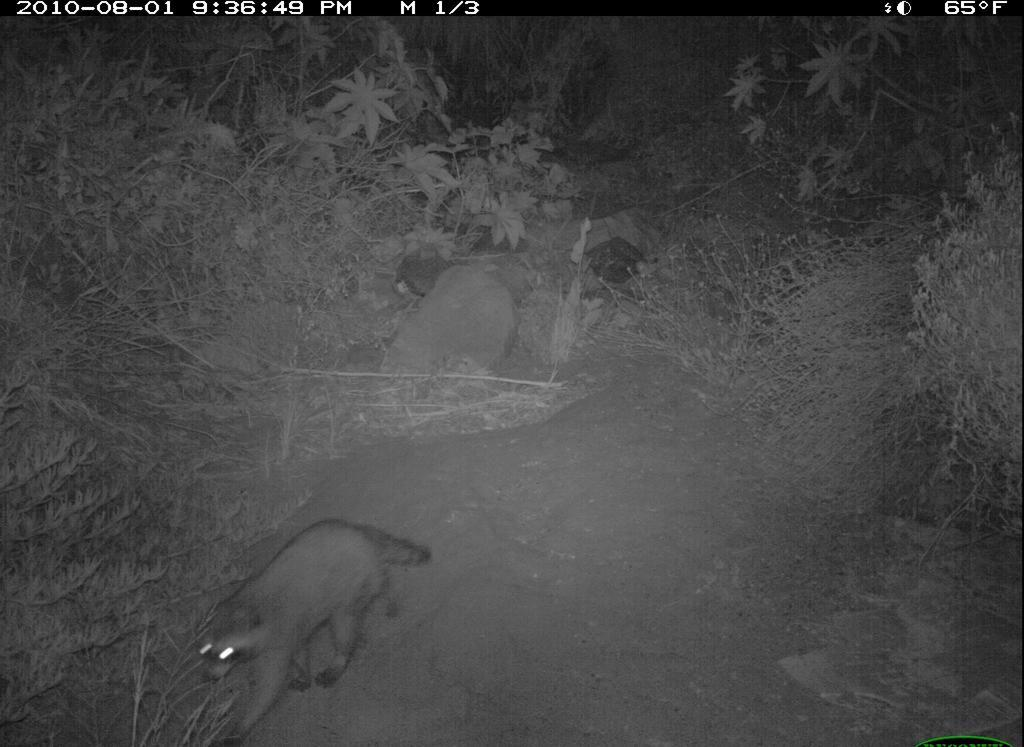raccoon: (180, 502, 446, 747)
